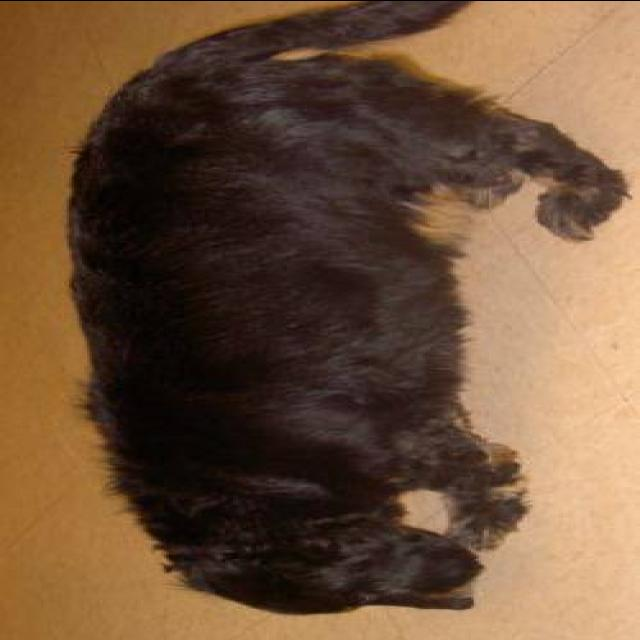dog: (51, 0, 640, 624)
